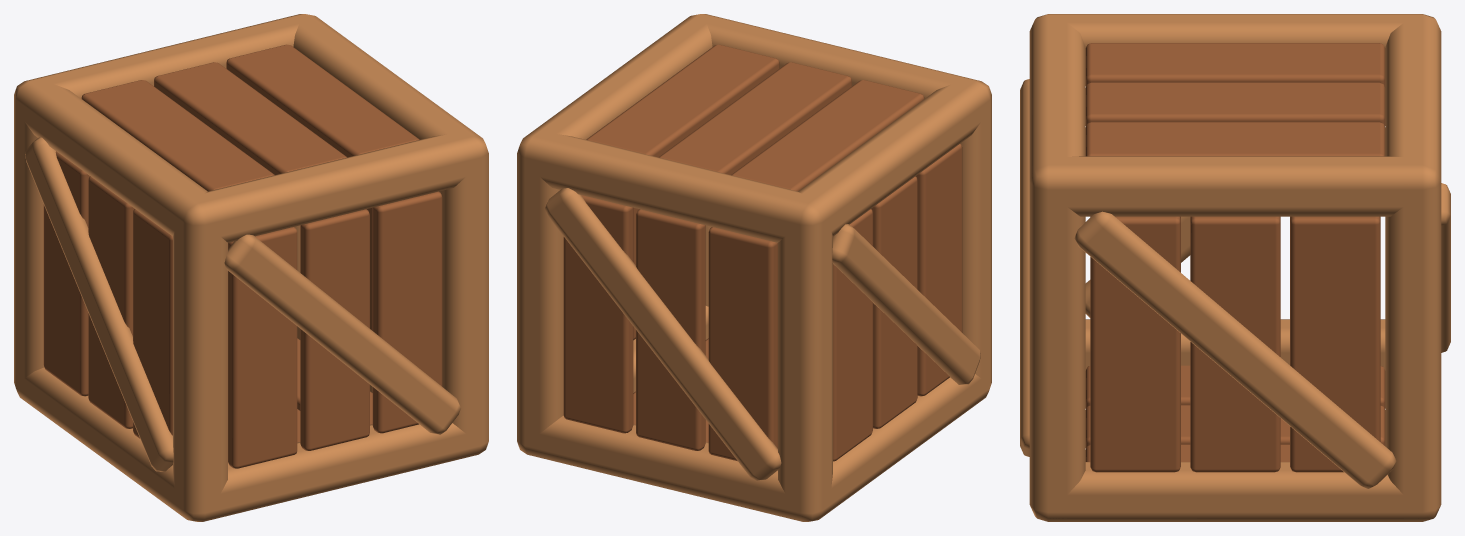
The model's file is PROP_CRATE.glb.
3 renders of one model, left to right at view 1: azimuth 30°, elevation 25°; view 2: azimuth 150°, elevation 25°; view 3: azimuth 270°, elevation 25°, orthographic. The views are drawn at different scales.
Visible parts, largest first — view 1: frame, panels; view 2: frame, panels; view 3: frame, panels.
Part boxes in pixels (left/top/right/bottom): frame: left=14, top=14, right=488, bottom=521; panels: left=43, top=44, right=442, bottom=468; frame: left=517, top=14, right=991, bottom=521; panels: left=563, top=44, right=962, bottom=461; frame: left=1020, top=14, right=1450, bottom=521; panels: left=1085, top=43, right=1385, bottom=472.
Bounding box in the file's own units: 2.2 × 2.1 × 2.3.
